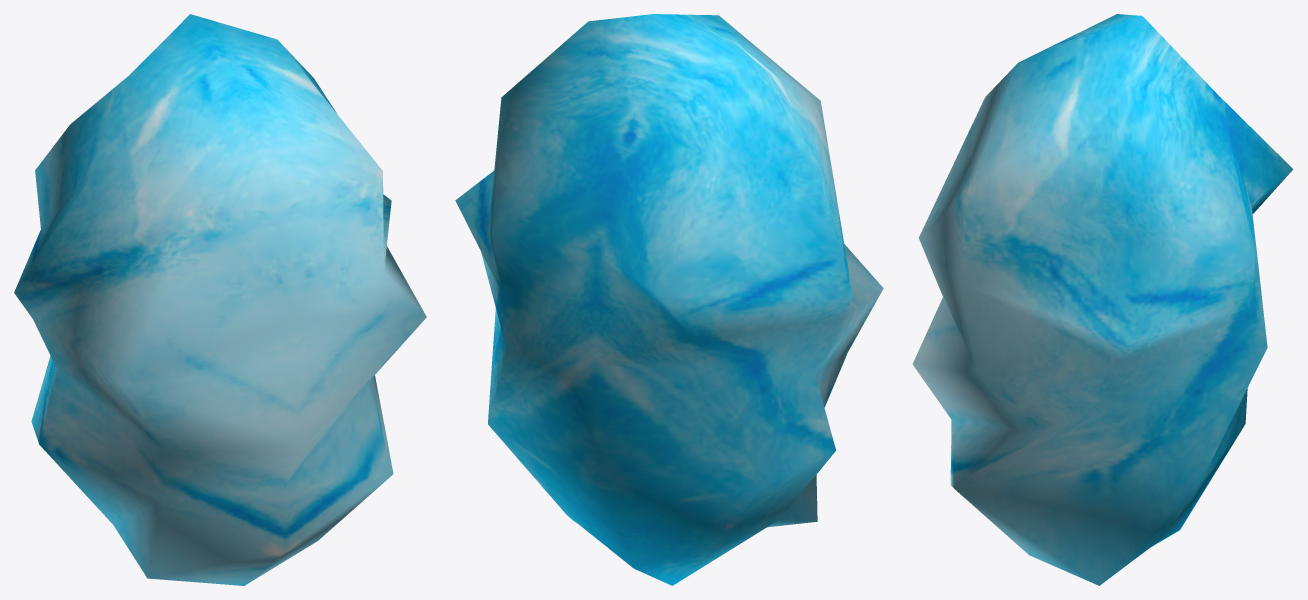
Rendered from ice.fbx.
The picture shows the model from 3 angles, left to right: view 1: azimuth 30°, elevation 25°; view 2: azimuth 150°, elevation 25°; view 3: azimuth 270°, elevation 25°; orthographic projection. The views are drawn at different scales.
Visible parts, largest first — view 1: ice; view 2: ice; view 3: ice.
Part boxes in pixels (x1,y1,x2,y2): ice: (14, 14, 426, 585); ice: (455, 14, 883, 585); ice: (912, 14, 1293, 585).
Size of the model in its own units: 0.661 by 0.9299 by 0.5759.
1 material, 1 textured.
